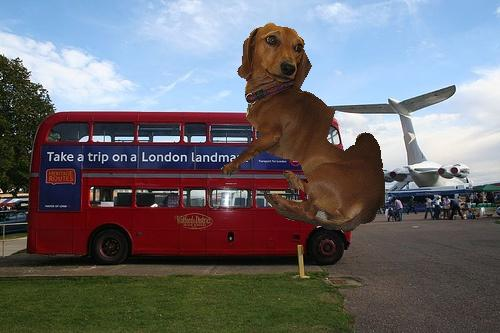tampered: (222, 23, 385, 232)
